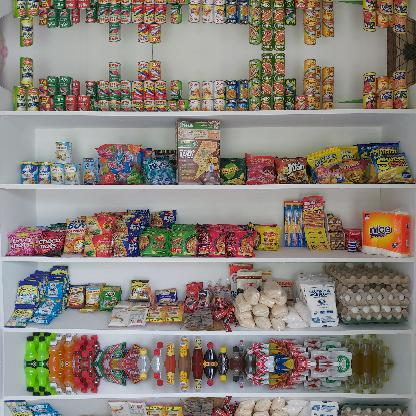Koko-Krunch: (174, 119, 219, 184)
